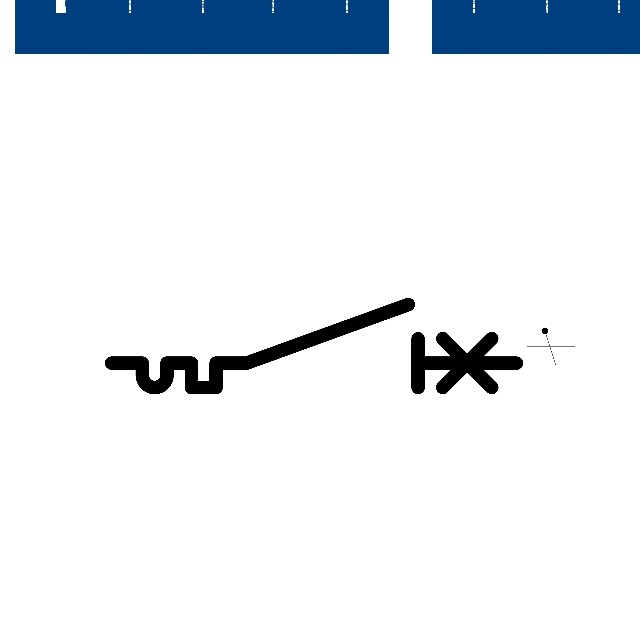interruptor_termomagnetico: (101, 294, 527, 398)
